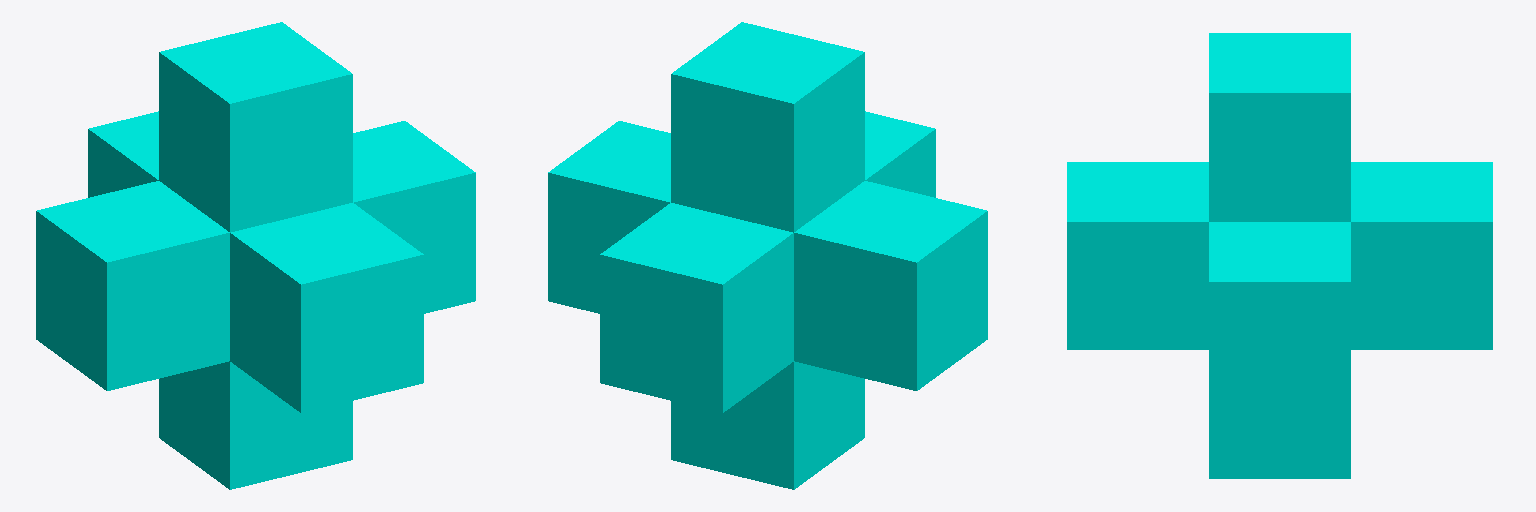
3 renders of one model, left to right at view 1: azimuth 30°, elevation 25°; view 2: azimuth 150°, elevation 25°; view 3: azimuth 270°, elevation 25°, orthographic.
Size of the model in its own units: 3 by 3 by 3.
Materials: 1 (1 with a texture image).